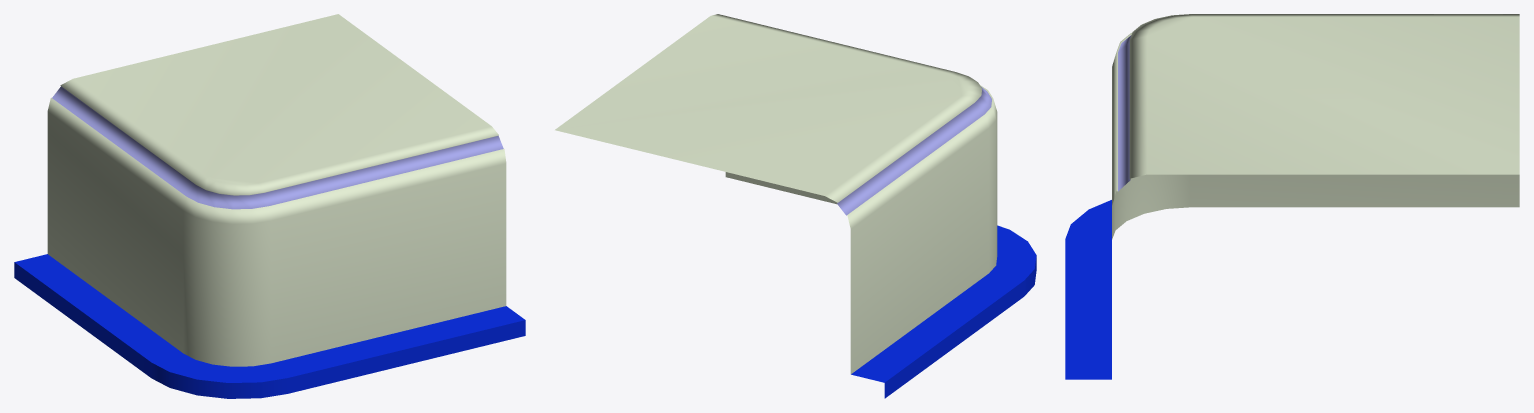
Rendered from Wall_Island_Corner.fbx.
3 renders of one model, left to right at view 1: azimuth 30°, elevation 25°; view 2: azimuth 150°, elevation 25°; view 3: azimuth 270°, elevation 25°, orthographic. The views are drawn at different scales.
Parts seen in each view (by area): view 1: Wall_Island_Corner; view 2: Wall_Island_Corner; view 3: Wall_Island_Corner.
Part boxes in pixels (x1,y1,x2,y2): Wall_Island_Corner: (14,14,525,398); Wall_Island_Corner: (555,14,1036,398); Wall_Island_Corner: (1065,14,1519,379).
Size of the model in its own units: 100 by 54.53 by 100.
